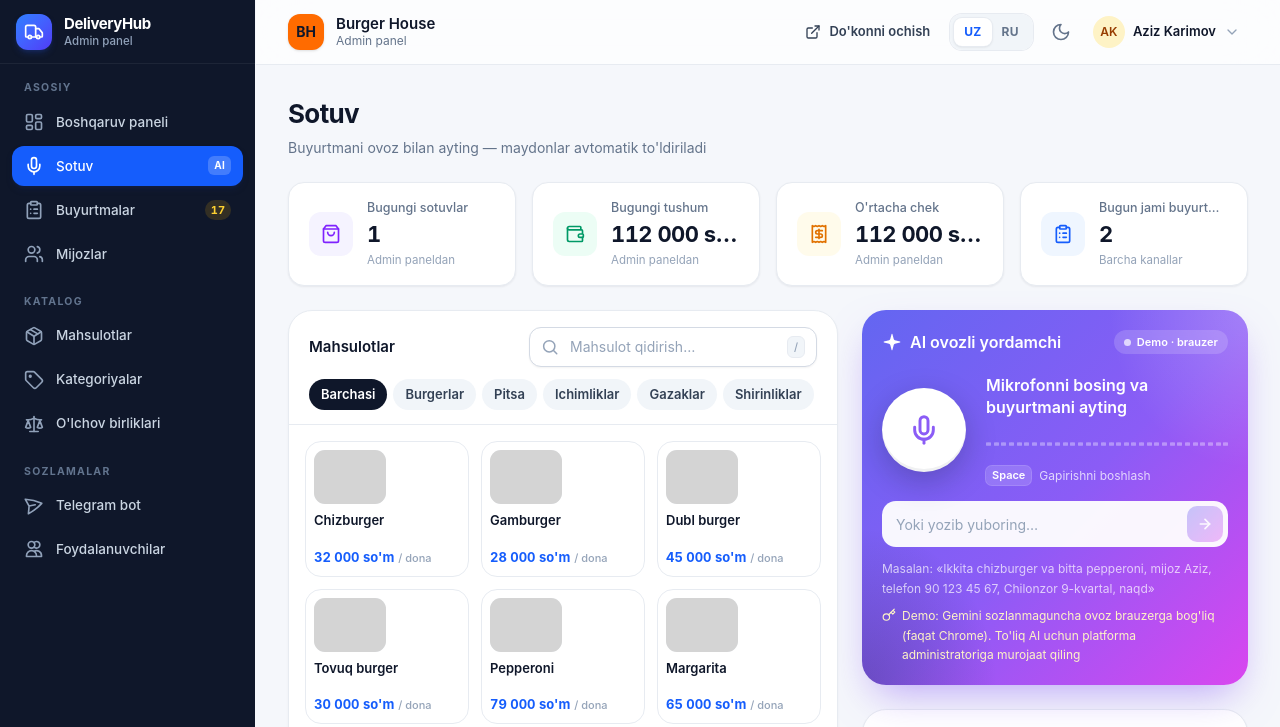
point of sale › focuses the product search with "/" and filters by category
This screenshot has width=1280, height=727.
Type keys "/"
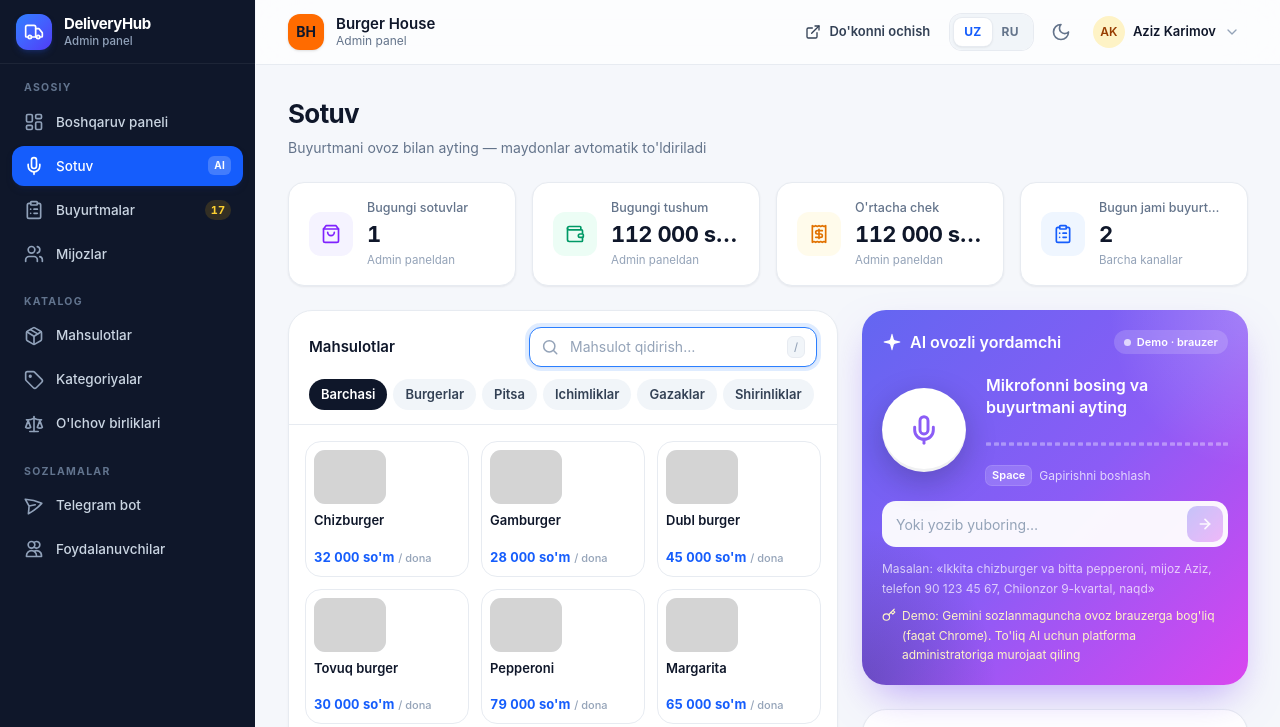
Type "pepp" into the search field labelled "Mahsulot qidirish…" at point(673, 347), box 529,327 -> 817,367
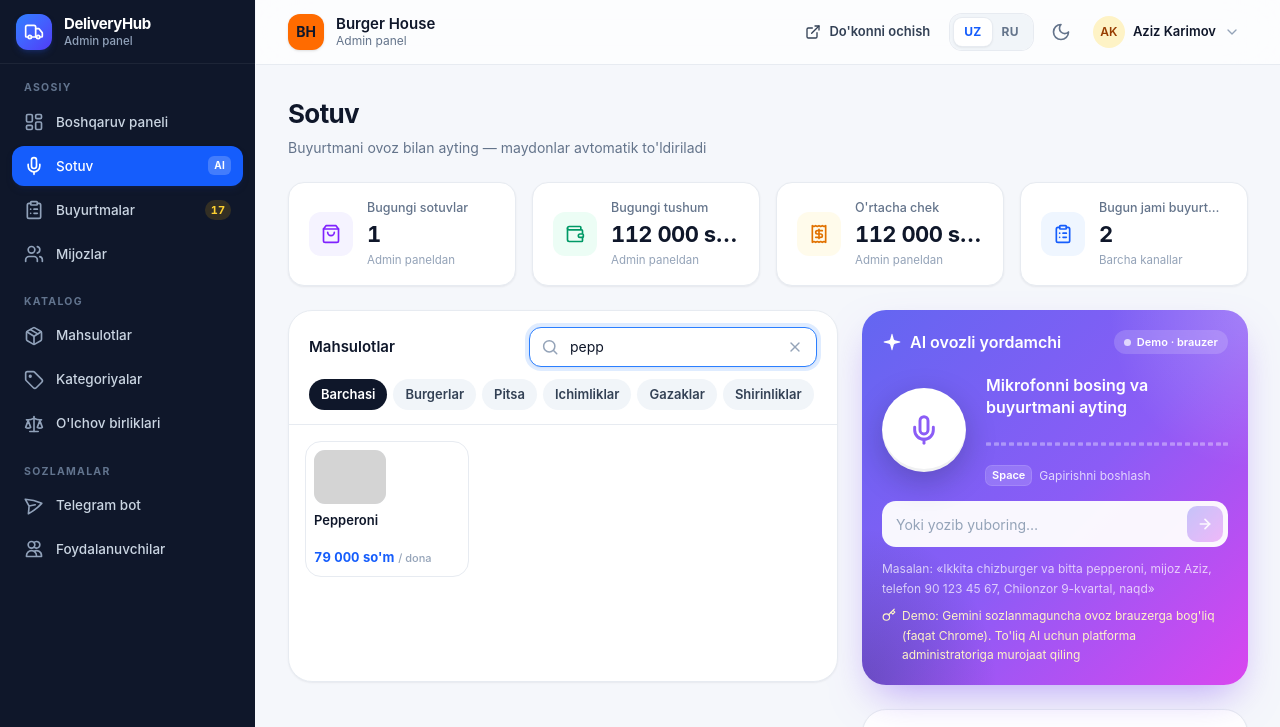
Expected: the button with aria-label "Buyurtmaga qo'shish: Pepperoni," is shown, 305,441 -> 469,577
Clear the search field named "Mahsulot qidirish…" at point(673, 347), box 529,327 -> 817,367
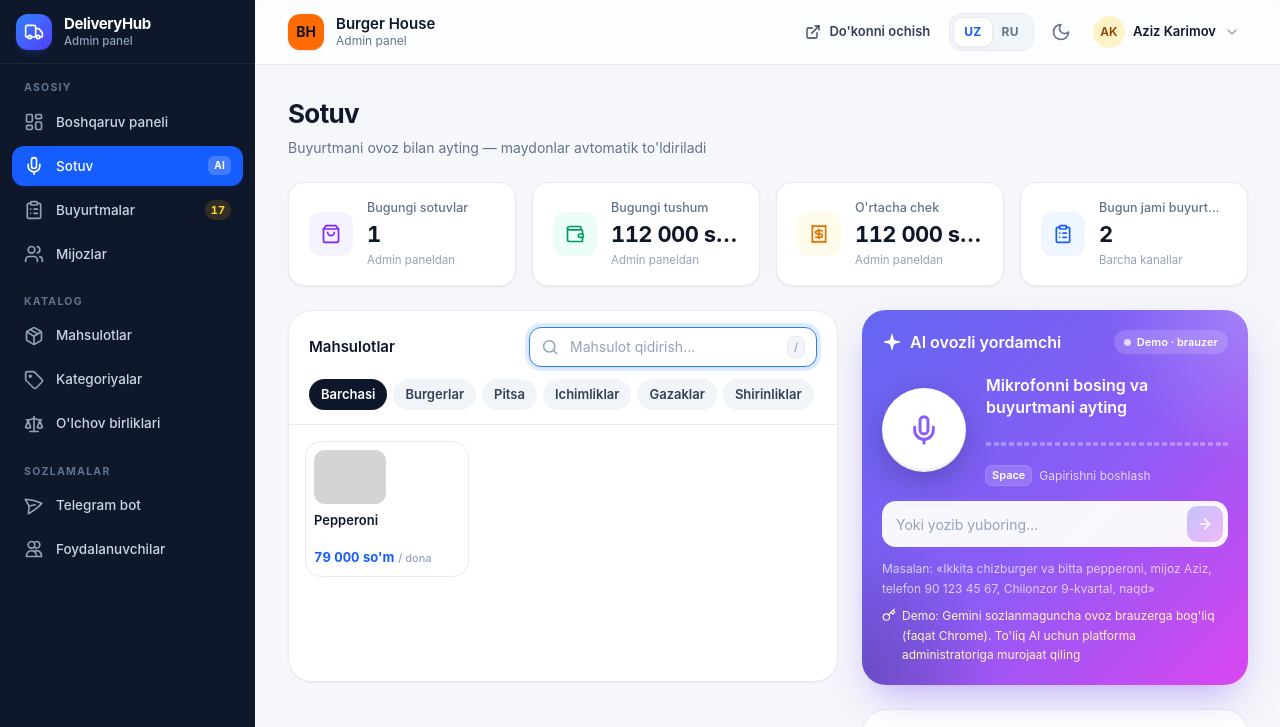
Click the button "Ichimliklar" at point(587, 395), box 543,379 -> 632,410
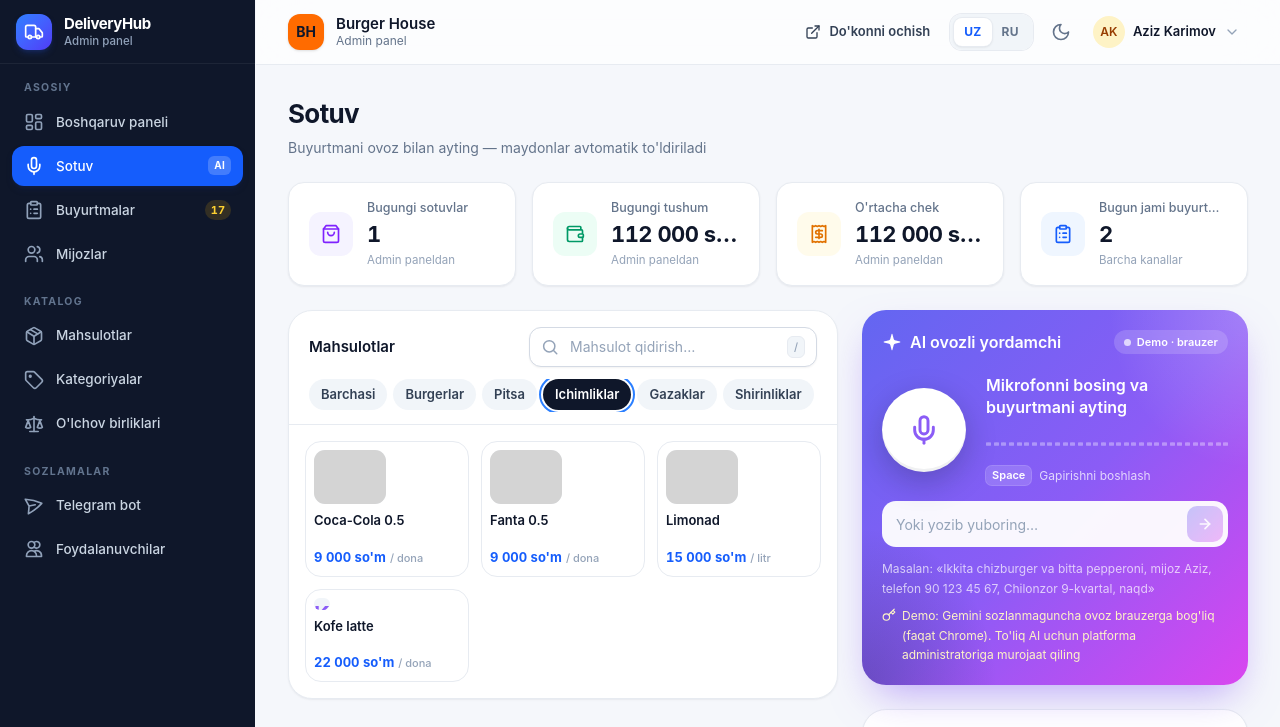
Expected: the button with aria-label "Buyurtmaga qo'shish: Limonad," is shown, 657,441 -> 821,577
